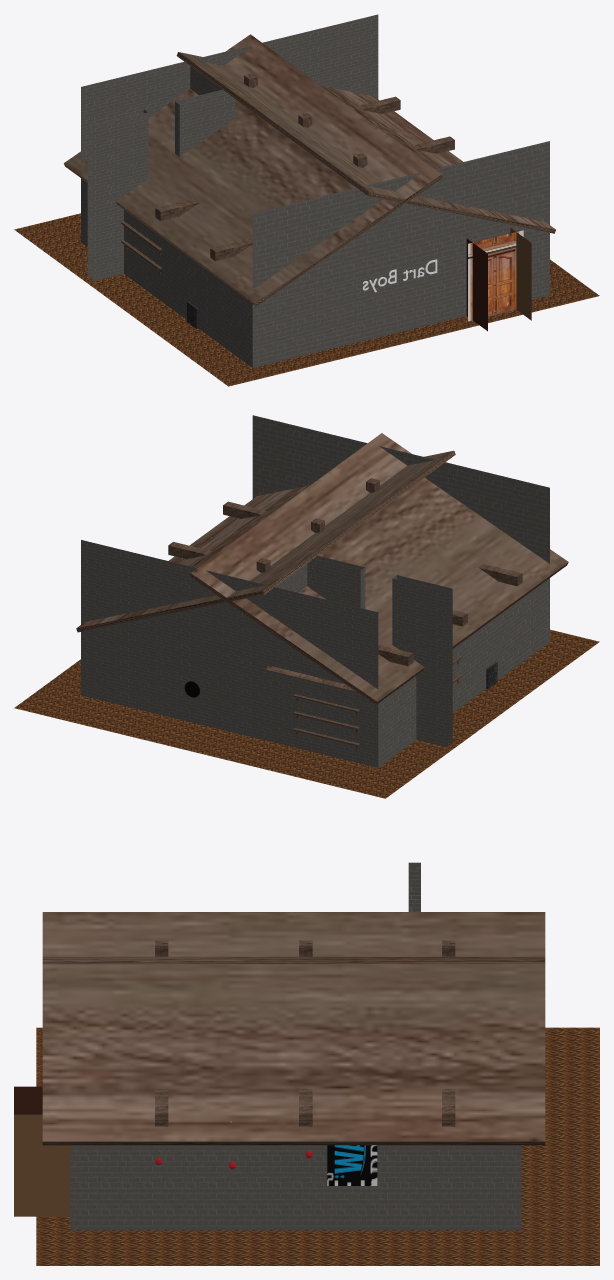
Rendered from prostor.gltf.
3 renders of one model, top to bottom at view 1: azimuth 30°, elevation 25°; view 2: azimuth 150°, elevation 25°; view 3: azimuth 270°, elevation 25°, orthographic. The views are drawn at different scales.
Visible parts, largest first — view 1: Plane.005, Cube.055, Plane, Plane.001, Cube.056, Plane.002, Plane.004, Plane.013, Plane.003, Plane.010, Plane.011, Plane.009 (+4 smaller); view 2: Plane.001, Cube.055, Plane, Plane.005, Plane.002, Cube.056, Plane.009, Plane.008, Plane.004, Cube.034, Cube.031, Plane.014; view 3: Cube.056, Plane.006, Plane, Plane.011, Cube.055, Cube.022, Plane.010.
Boxes of the visible parts, <box> form: Plane.005: <box>252,141,549,367</box>; Cube.055: <box>64,34,442,306</box>; Plane: <box>14,213,599,386</box>; Plane.001: <box>81,14,378,163</box>; Cube.056: <box>176,52,555,233</box>; Plane.002: <box>81,178,252,367</box>; Plane.004: <box>92,112,148,281</box>; Plane.013: <box>468,230,523,321</box>; Plane.003: <box>179,92,235,156</box>; Plane.010: <box>466,238,487,331</box>; Plane.011: <box>510,228,531,320</box>; Plane.009: <box>87,109,143,277</box>; Plane.001: <box>81,540,378,767</box>; Cube.055: <box>189,433,568,704</box>; Plane: <box>14,629,599,798</box>; Plane.005: <box>252,415,549,563</box>; Plane.002: <box>378,578,549,767</box>; Cube.056: <box>76,450,455,632</box>; Plane.009: <box>392,578,447,747</box>; Plane.008: <box>307,558,360,607</box>; Plane.004: <box>397,575,452,743</box>; Cube.034: <box>223,501,522,586</box>; Cube.031: <box>168,542,467,626</box>; Plane.014: <box>275,564,307,592</box>; Cube.056: <box>42,912,545,1145</box>; Plane.006: <box>70,1145,521,1230</box>; Plane: <box>36,1027,599,1265</box>; Plane.011: <box>14,1114,70,1216</box>; Cube.055: <box>42,956,545,964</box>; Cube.022: <box>327,1145,377,1185</box>; Plane.010: <box>14,1086,42,1114</box>.
Bounding box in the file's own units: 20 × 8.2 × 20.79.
Materials: 21 (21 with a texture image).
